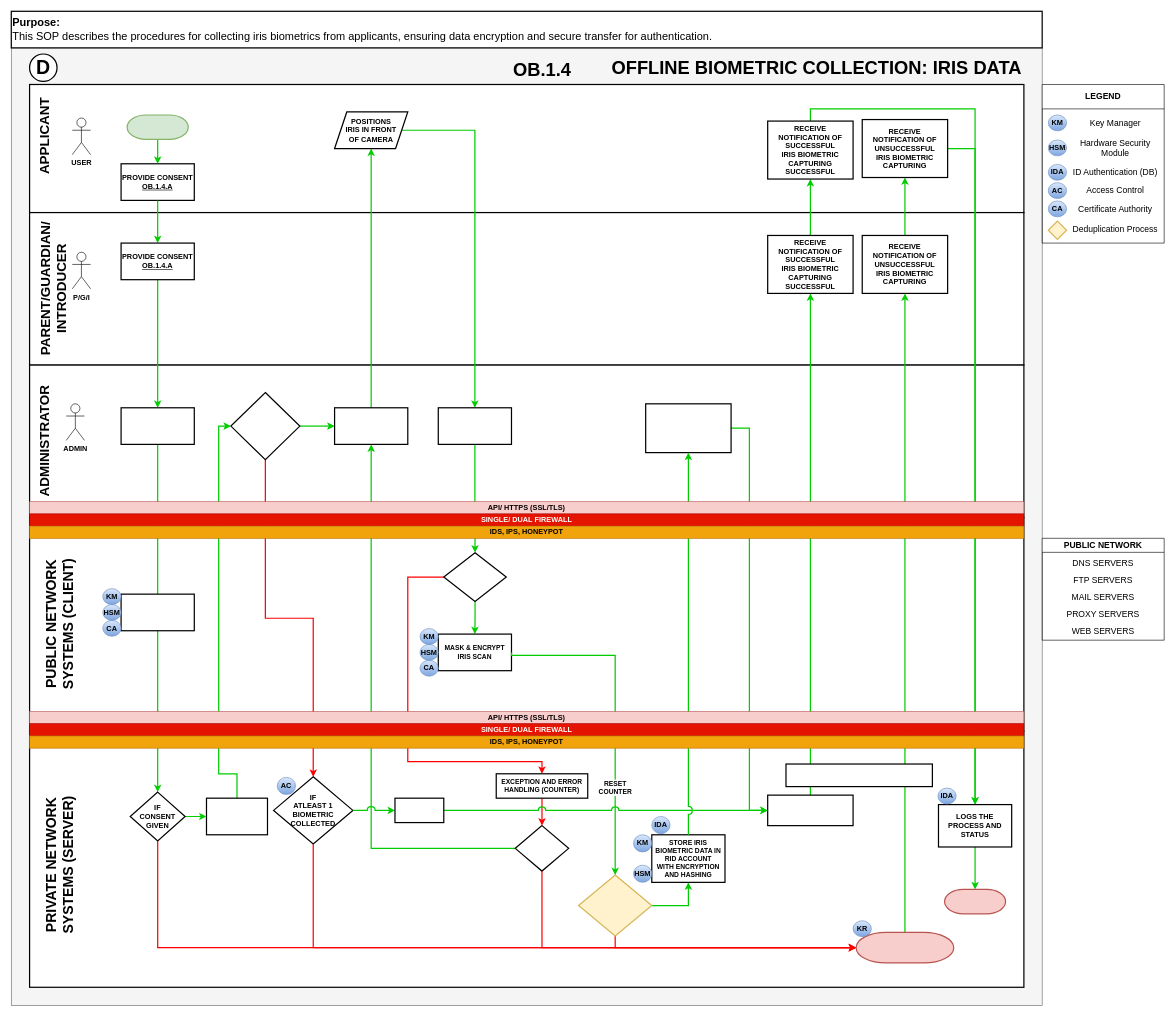
Image size: 1175x1016. Some labels were removed from this diagram. Here are the shapes that lost their labels. From the top down, the centre of each, then its label:
At pixel 157 127: "START (OFFLINE)".
At pixel 157 426: "VERIFY CONSENT GIVEN FOR BIOMETRIC COLLECTION".
At pixel 265 426: "IF APPLICANT IRIS PRESENT".
At pixel 371 426: "REQUEST IRIS SCAN OF APPLICANT".
At pixel 474 426: "CAPTURE IRIS IMAGE OF APPLICANT".
At pixel 688 428: "RECEIVE CONFIRMATION OF IRIS BIOMETRIC CAPTURE COMPLETED".
At pixel 475 577: "IF IRIS SCAN SUCCESS".
At pixel 157 612: "MASK & ENCRYPT RID AND APPLICANT DETAILS".
At pixel 859 775: "NOTIFICATION GENERATOR".
At pixel 237 816: "INITIATES IRIS BIOMETRIC COLLECTION".
At pixel 419 810: "RECORD SPECIAL CASE".
At pixel 810 810: "NOTIFY THE PARTICIPANTS".
At pixel 541 848: "IF RETRY COUNT < = 3".
At pixel 615 905: "IF IRIS BIOMETRIC DATA IS UNIQUE".
At pixel 975 901: "END".
At pixel 904 947: "TERMINATE PROCESS: REJECT APPLICATION".
